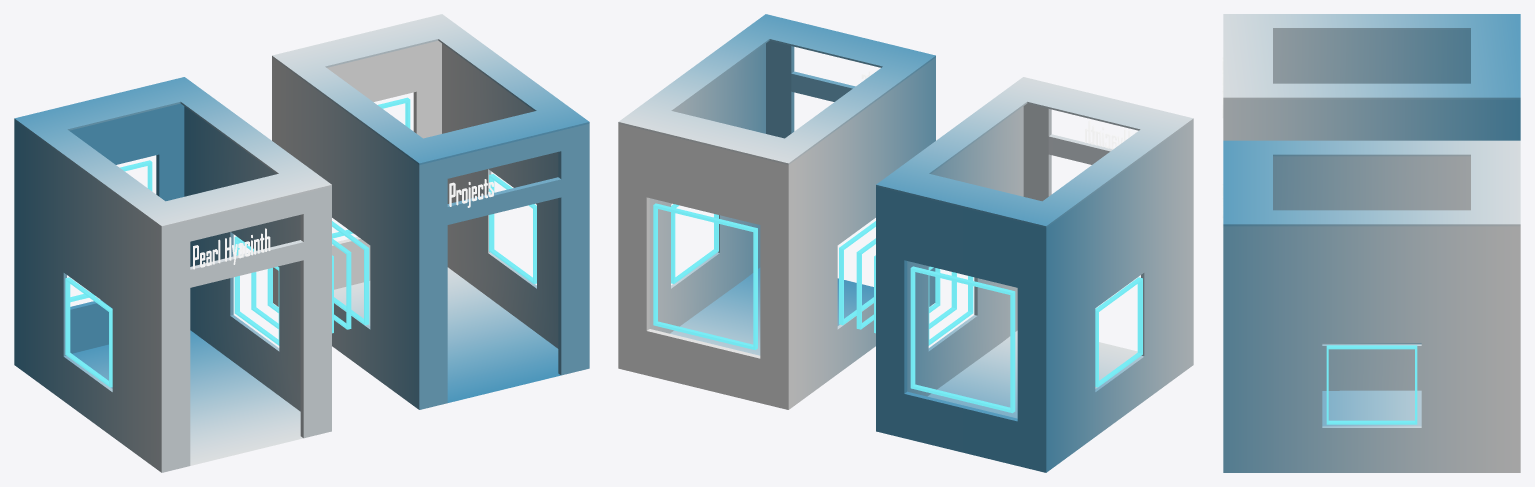
File: pearlhyacinth_neonboothfinaltwin.glb
3 renders of one model, left to right at view 1: azimuth 30°, elevation 25°; view 2: azimuth 150°, elevation 25°; view 3: azimuth 270°, elevation 25°, orthographic.
Visible parts, largest first — view 1: neonneon.002, pearl, projects; view 2: neonneon.002; view 3: neonneon.002.
Boxes of the visible parts, left/top/right/bottom form: neonneon.002: left=14, top=14, right=589, bottom=472; pearl: left=193, top=228, right=270, bottom=269; projects: left=449, top=179, right=493, bottom=207; neonneon.002: left=618, top=14, right=1193, bottom=472; neonneon.002: left=1223, top=14, right=1520, bottom=472.
Size of the model in its own units: 10.06 by 5.54 by 6.02.
Materials: 3 (1 with a texture image).
